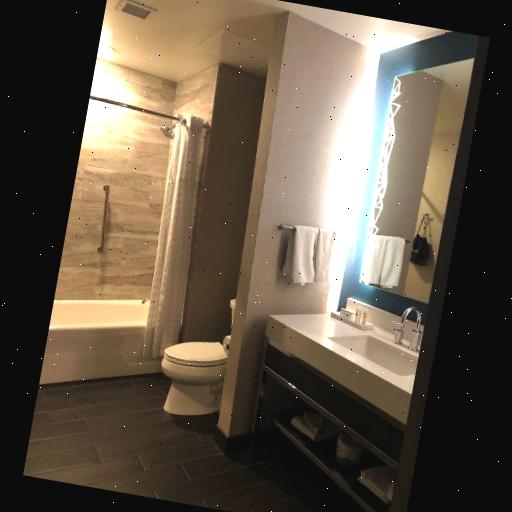clean_bathtub: (37, 299, 164, 389)
clean_floor: (22, 374, 349, 512)
clean_sink: (248, 275, 432, 512)
clean_toilet: (156, 288, 246, 428)
folded_towel: (280, 222, 340, 290), (356, 228, 408, 290), (284, 405, 336, 447), (352, 462, 395, 502)
